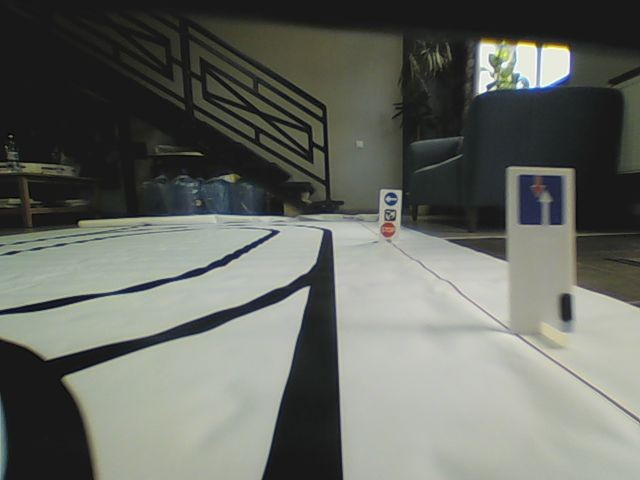priority_movement: (516, 174, 565, 225)
